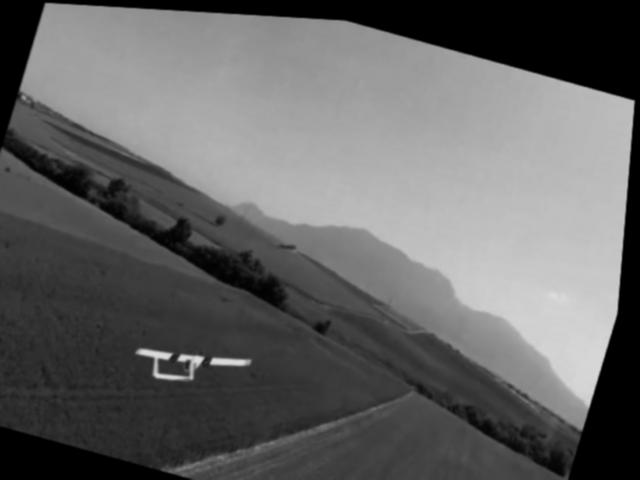hedef: (117, 306, 274, 417)
